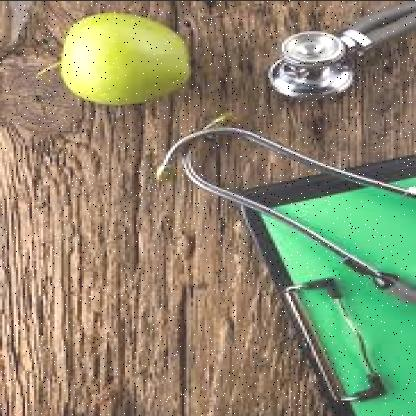apple: (60, 15, 196, 109)
